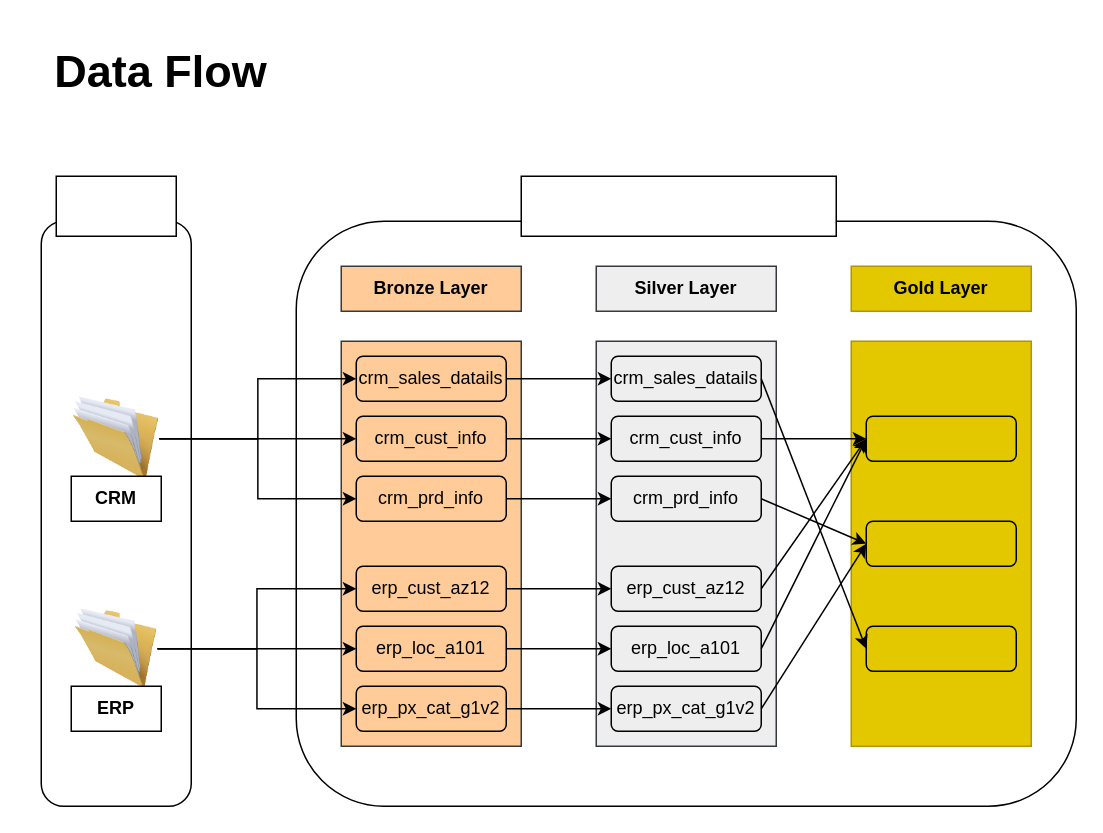
The diagram is 1103 pixels wide and 833 high, and some of its shapes have lost their labels. Each missing label, with the centre of its shape:
"Data Warehouse" goes at pixel 678 205.
"dim_customers" goes at pixel 940 438.
"dim_products" goes at pixel 940 543.
"fact_sales" goes at pixel 940 648.
"Sources" goes at pixel 115 205.
